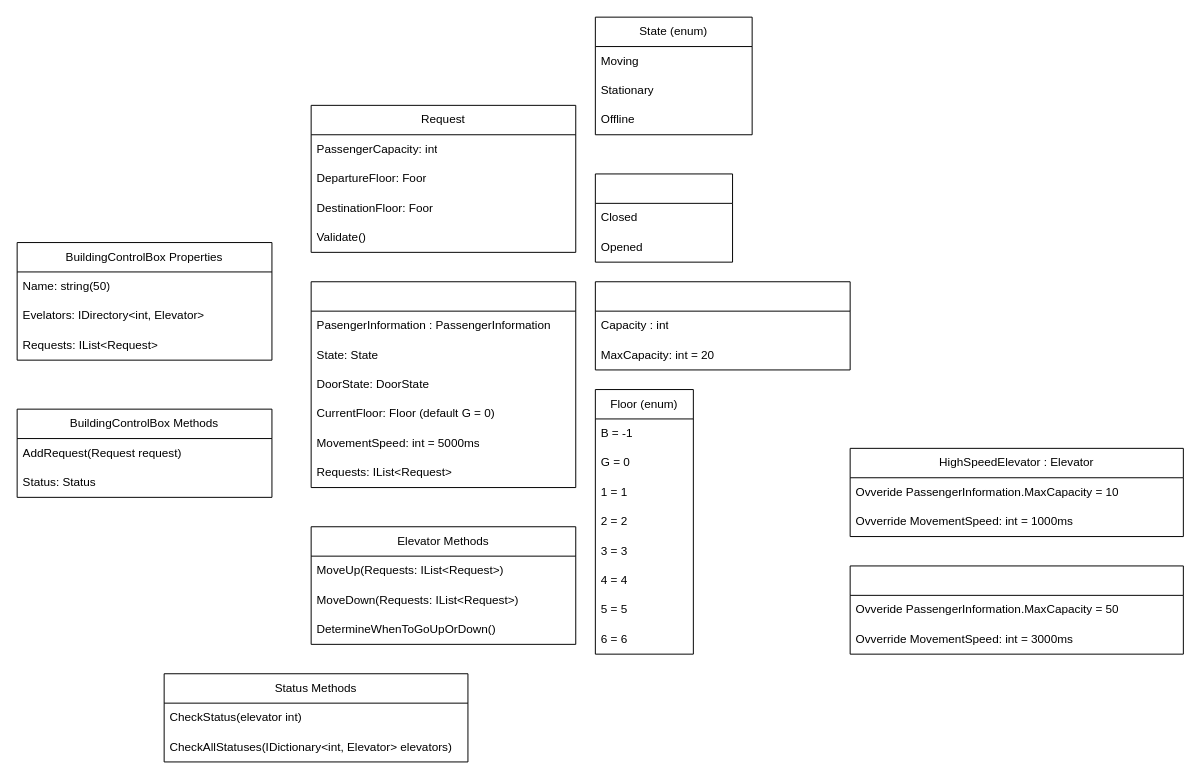
Some shapes in this 1201 by 779 pixel diagram are drawn without their labels. Here are the shapes that lost their labels. From the top down, the box of each, then its label:
(594, 173, 733, 262): DoorState (enum)
(594, 281, 850, 370): PassengerInformation Properties
(310, 281, 576, 488): Elevator Properties
(849, 565, 1183, 654): FreightElevator : Elevator
